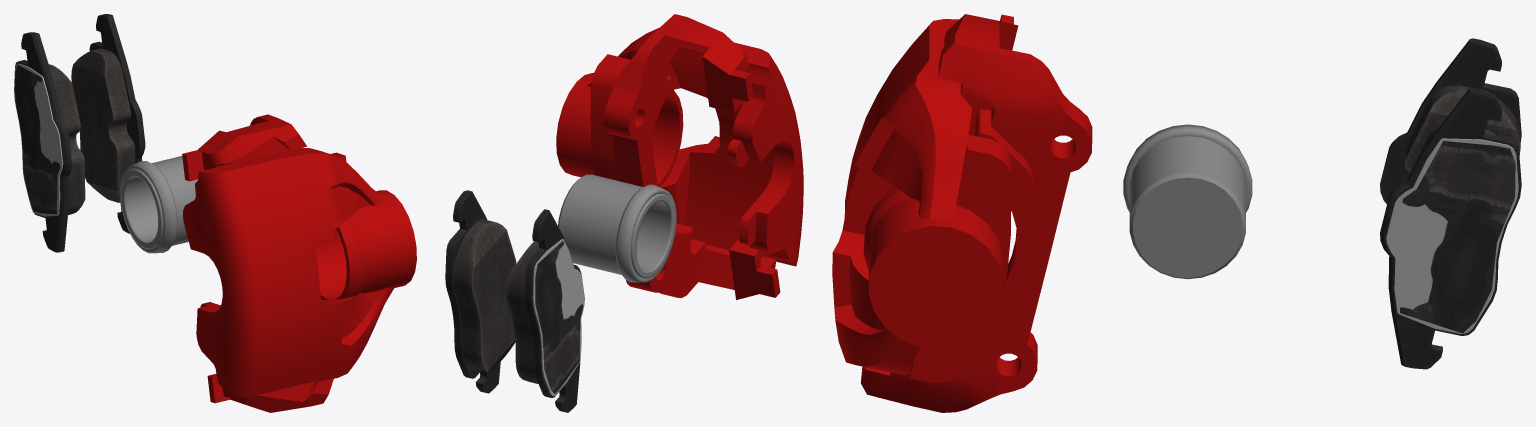
Rendered from brakes.glb.
3 renders of one model, left to right at view 1: azimuth 30°, elevation 25°; view 2: azimuth 150°, elevation 25°; view 3: azimuth 270°, elevation 25°, orthographic. The views are drawn at different scales.
Parts seen in each view (by area): view 1: zaciskHamulcowy_1(0), klockiHamulcowe_1(0), zaciskHamulcowy_tloczek_1(0); view 2: zaciskHamulcowy_1(0), klockiHamulcowe_1(0), zaciskHamulcowy_tloczek_1(0); view 3: zaciskHamulcowy_1(0), klockiHamulcowe_1(0), zaciskHamulcowy_tloczek_1(0).
Part boxes in pixels (<box>): zaciskHamulcowy_1(0): <box>182,114,416,412</box>; klockiHamulcowe_1(0): <box>14,14,145,252</box>; zaciskHamulcowy_tloczek_1(0): <box>120,156,198,253</box>; zaciskHamulcowy_1(0): <box>556,14,803,299</box>; klockiHamulcowe_1(0): <box>445,190,584,412</box>; zaciskHamulcowy_tloczek_1(0): <box>558,174,676,282</box>; zaciskHamulcowy_1(0): <box>832,14,1092,412</box>; klockiHamulcowe_1(0): <box>1380,38,1521,369</box>; zaciskHamulcowy_tloczek_1(0): <box>1123,124,1252,279</box>.
Bounding box in the file's own units: 0.00404 × 0.00559 × 0.00951.
3 materials, 1 textured.
